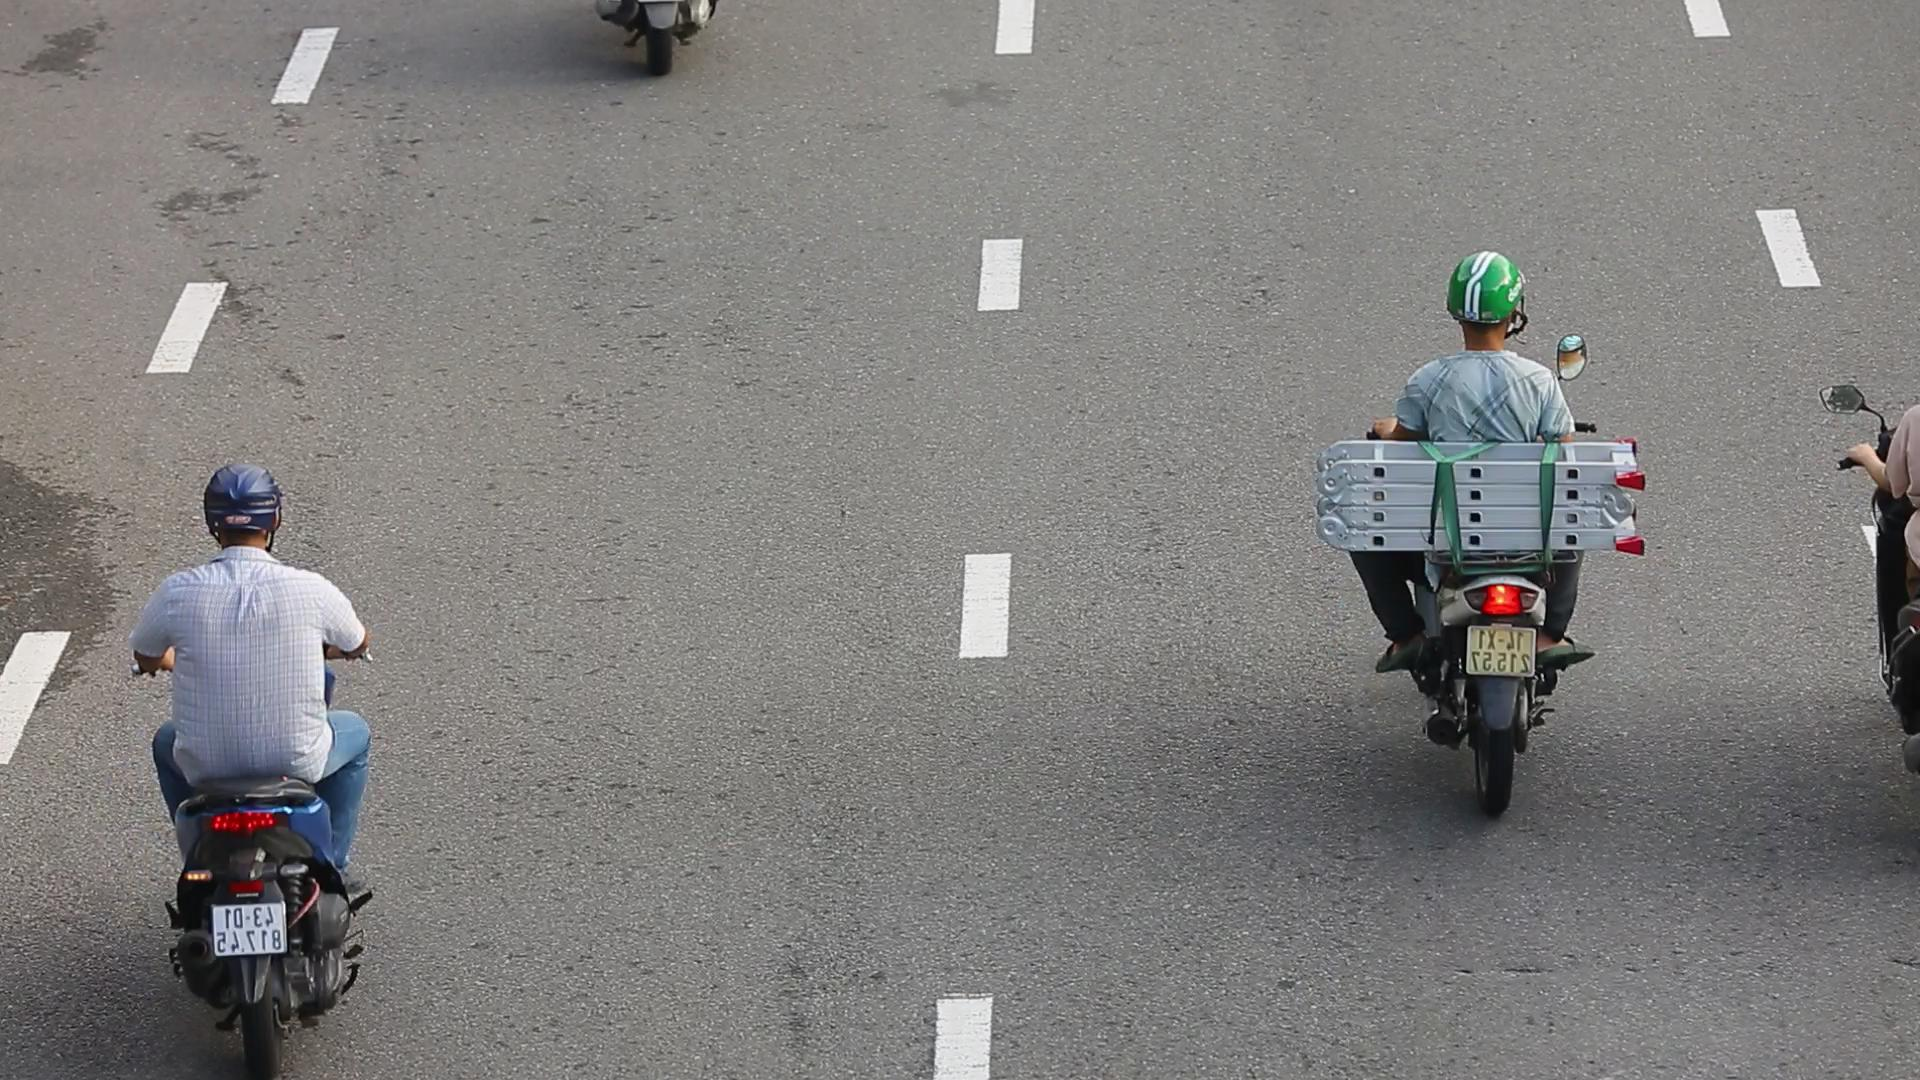motobike: (117, 459, 389, 1080), (1367, 232, 1606, 824)
